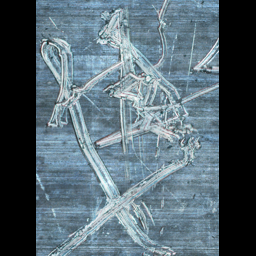d: (59, 136, 195, 256), (99, 60, 202, 163), (39, 30, 89, 135), (92, 3, 137, 64), (143, 0, 171, 71), (185, 31, 219, 82)
